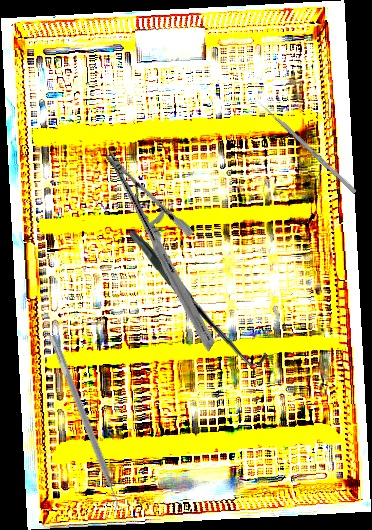Hook Surgical: (130, 226, 267, 370)
Needle Holder: (47, 149, 273, 352)
Pusher: (253, 96, 358, 195)
Spatula Surgical: (41, 334, 127, 515)
